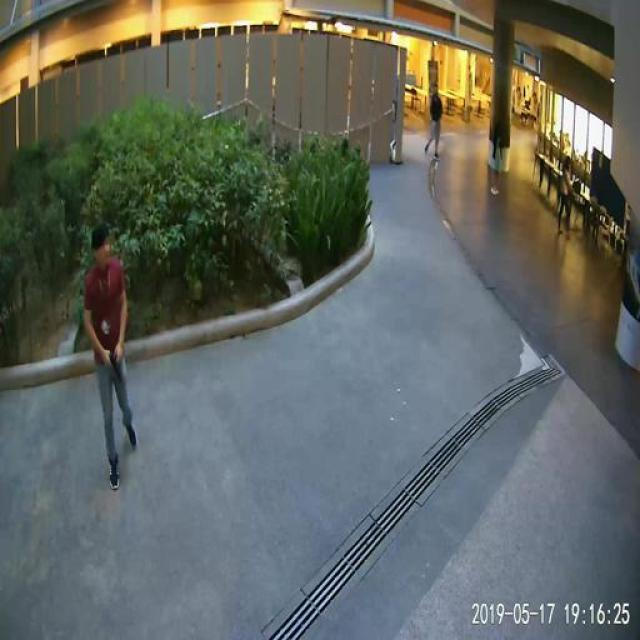Gun: (99, 342, 133, 382)
